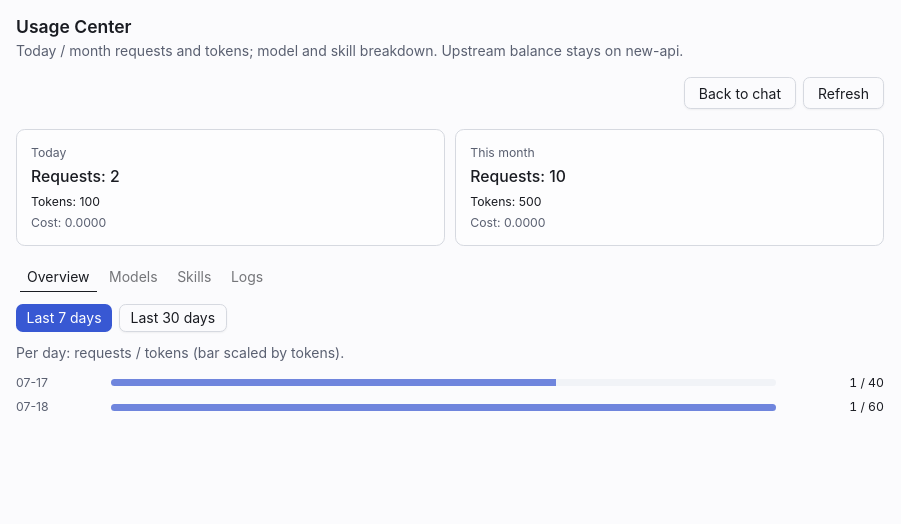
Usage Center › shows summary cards and trend, then models tab
Expected: the heading "Usage Center" is shown, [16, 16, 132, 37]
Expected: the button "Back to chat" is shown, [684, 77, 796, 109]
Click the tab "Models". click: (133, 276)
box: [101, 264, 166, 288]
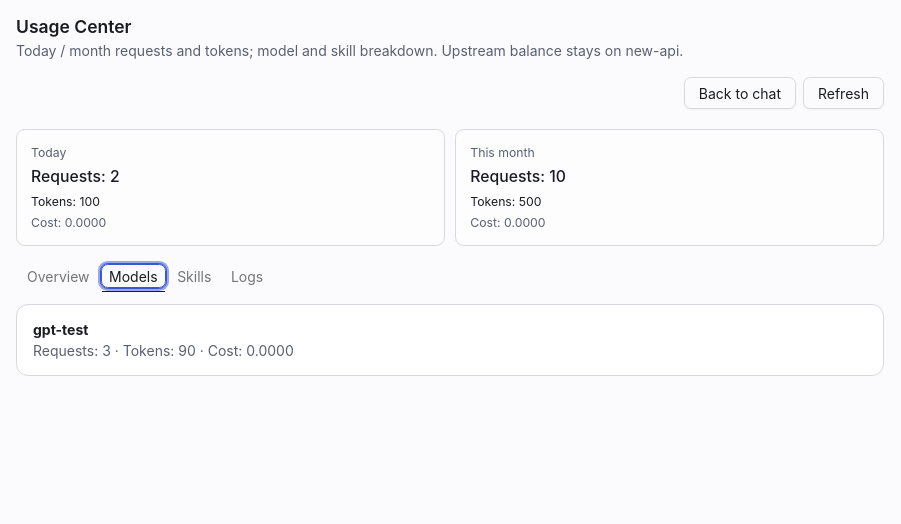
Now the text "gpt-test" is shown, box [33, 321, 88, 338]
Click the tab "Logs". click: (247, 276)
box: [223, 264, 271, 288]
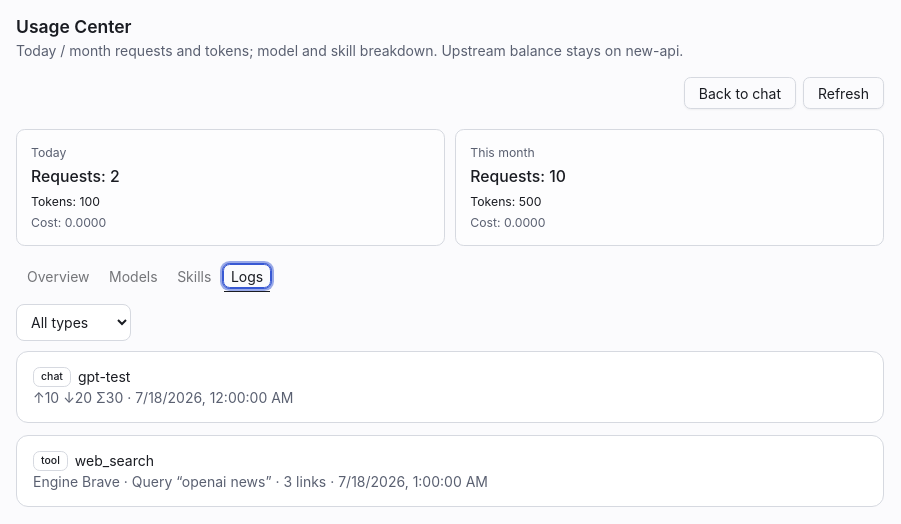
Now the text "↑10 ↓20 Σ30 · 7/18/2026, 12:00:00 AM" is shown, box [33, 389, 294, 406]
Now the text "openai news" is shown, box [33, 473, 326, 490]
